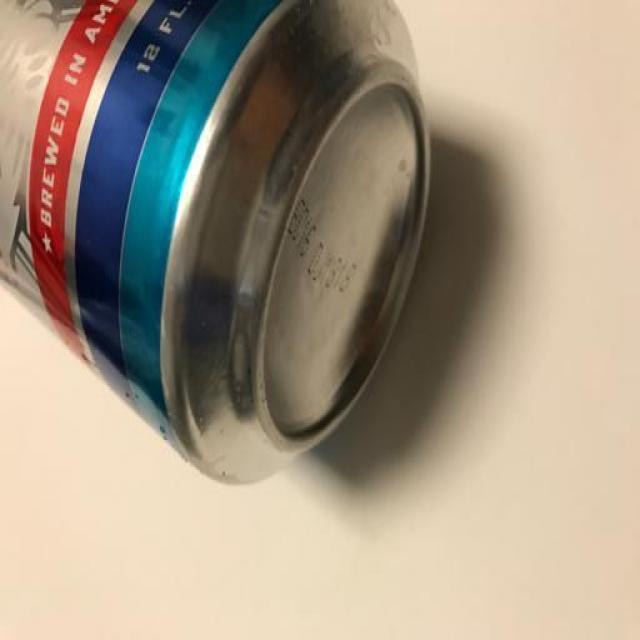metel: (2, 4, 442, 528)
